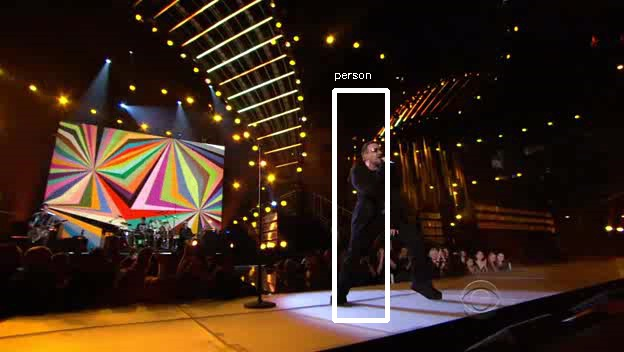person: (349, 142, 413, 241), (346, 142, 410, 241), (352, 142, 416, 241), (349, 139, 413, 238), (349, 145, 413, 244)
target_negative: (437, 140, 553, 352), (430, 129, 463, 294), (461, 265, 612, 268), (568, 125, 573, 214), (484, 117, 485, 170)
